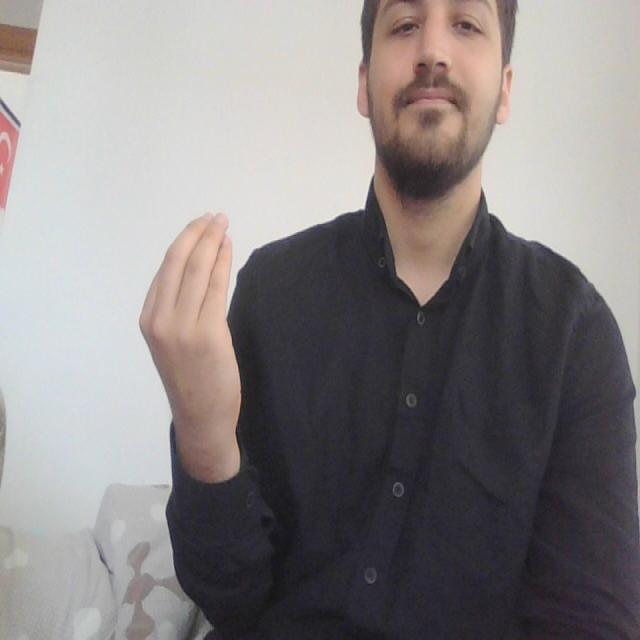iyi: (136, 197, 239, 350)
